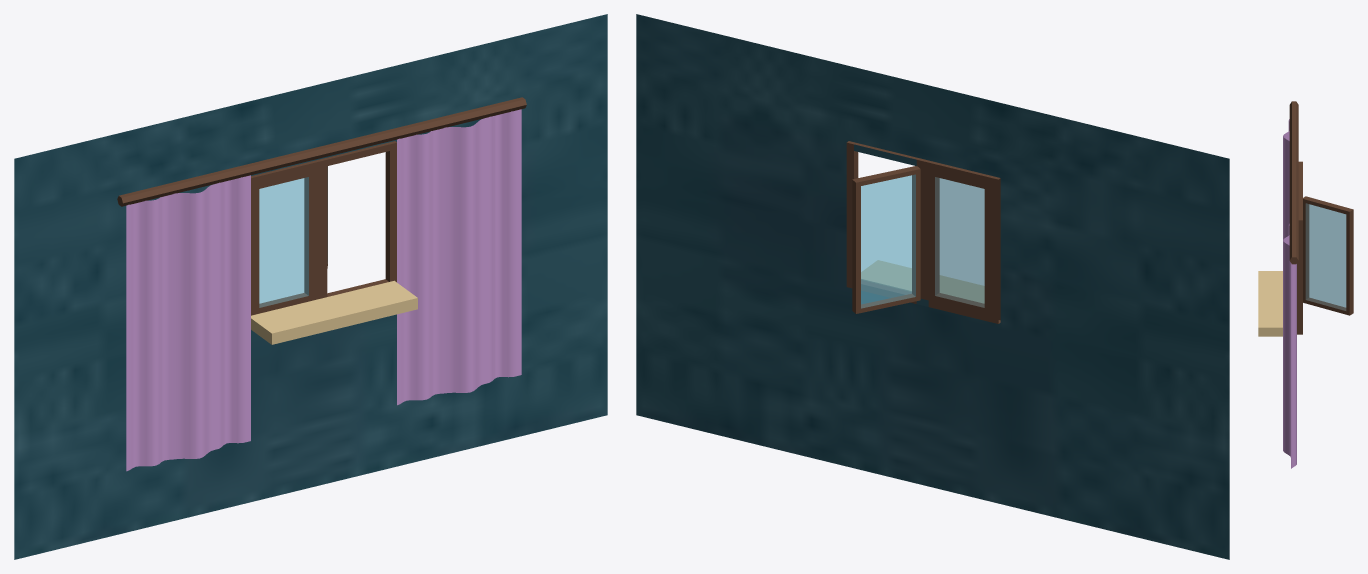
Rendered from Windows.fbx.
3 views of the same model, side by side, from view 1: azimuth 30°, elevation 25°; view 2: azimuth 150°, elevation 25°; view 3: azimuth 270°, elevation 25° (orthographic). The views are drawn at different scales.
Visible parts, largest first — view 1: Плоскость.001; view 2: Плоскость.001; view 3: Плоскость.001.
Boxes of the visible parts, box(x1,y1,x2,y2) form: Плоскость.001: box(14, 14, 607, 559); Плоскость.001: box(636, 14, 1229, 559); Плоскость.001: box(1258, 101, 1353, 468).
Size of the model in its own units: 29.14 by 18.83 by 5.12.
